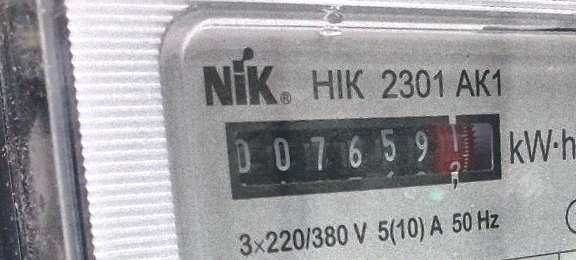0: (227, 132, 256, 176), (267, 130, 296, 174)
1: (444, 120, 465, 155)
5: (376, 124, 400, 164)
6: (341, 129, 367, 170)
7: (306, 131, 330, 173)
9: (410, 126, 432, 165)
screen: (212, 77, 517, 232)
